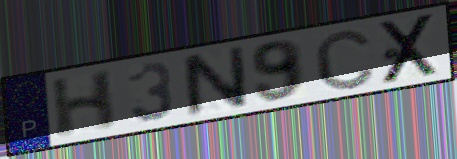3: (124, 60, 175, 126)
9: (249, 37, 309, 104)
C: (311, 27, 378, 92)
H: (48, 66, 118, 141)
N: (178, 42, 251, 120)
X: (377, 10, 443, 87)
